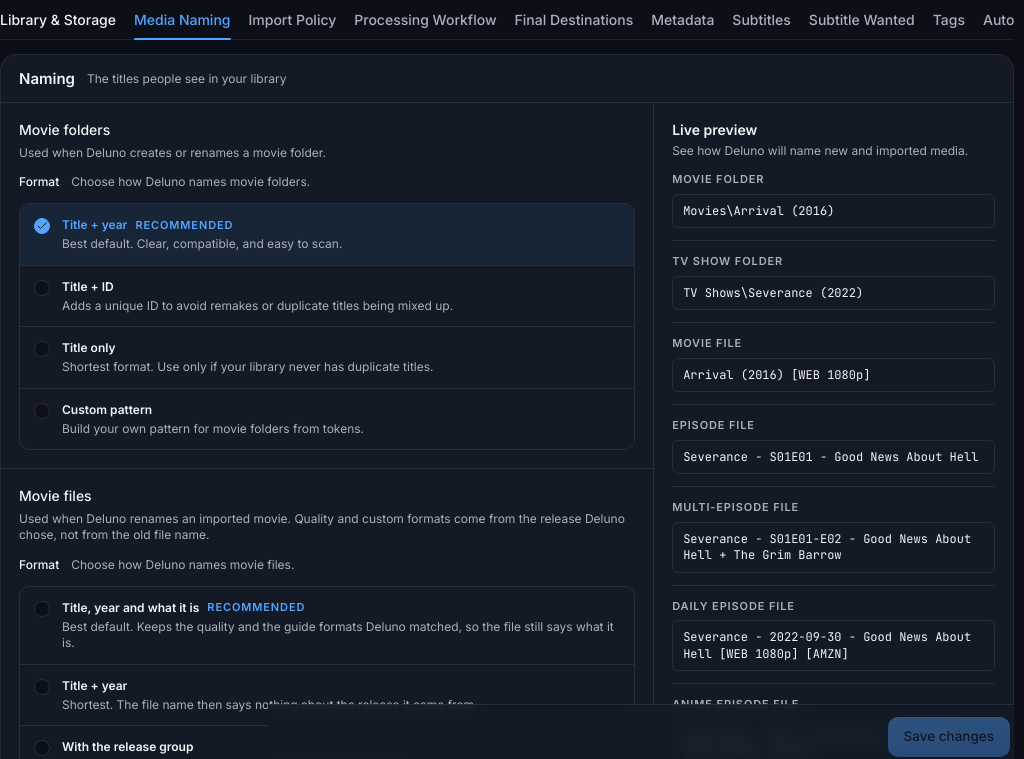
the custom pattern drawer's preview line › with the pattern left empty it previews the placeholder pattern
Click the radio button labelled "Custom pattern": (327, 419) [20, 388, 634, 449]
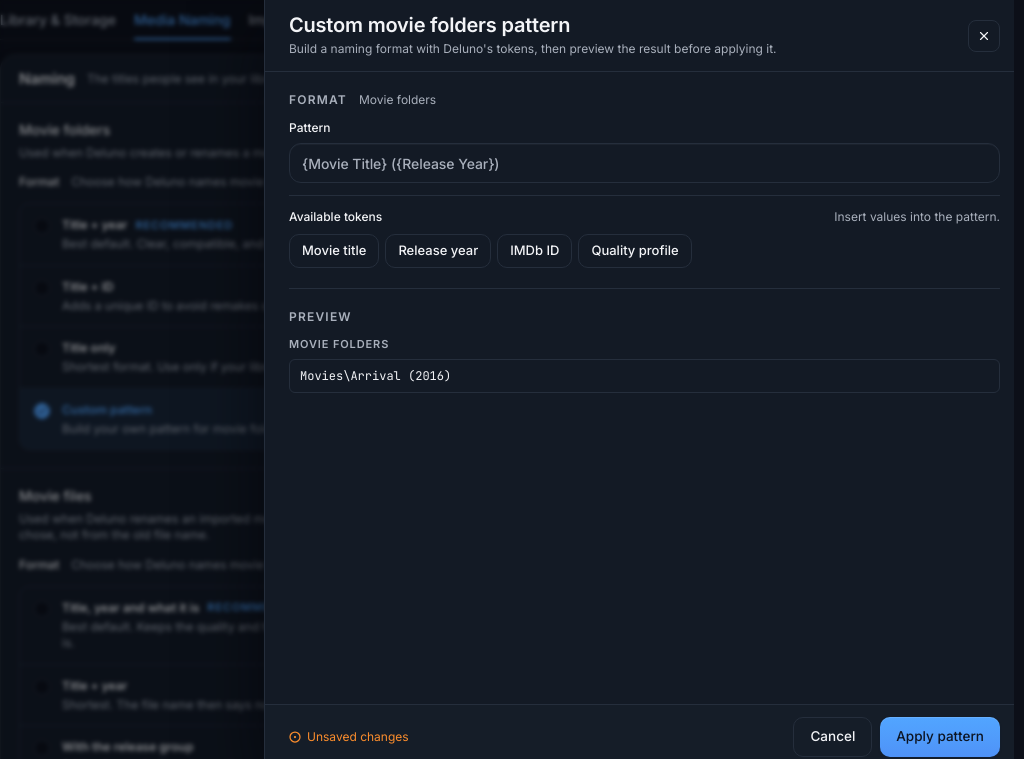
Now the text "Movies\\Arrival (2016)" is shown, box [289, 358, 1000, 393]
